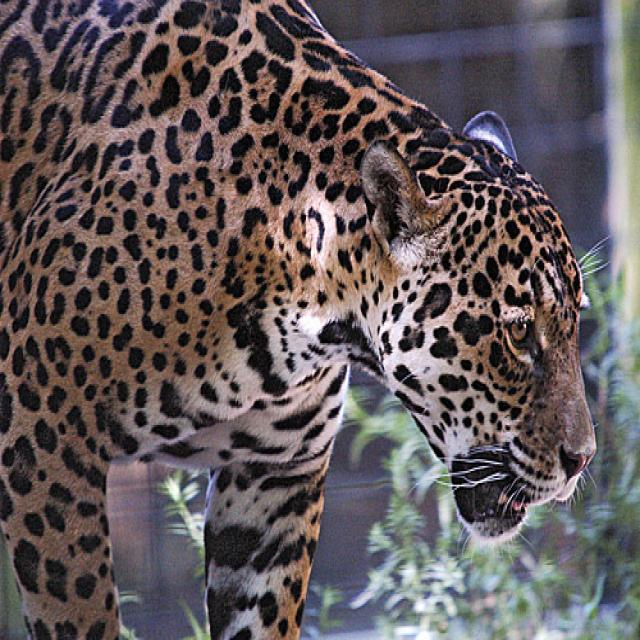Leopard: (0, 0, 598, 637)
